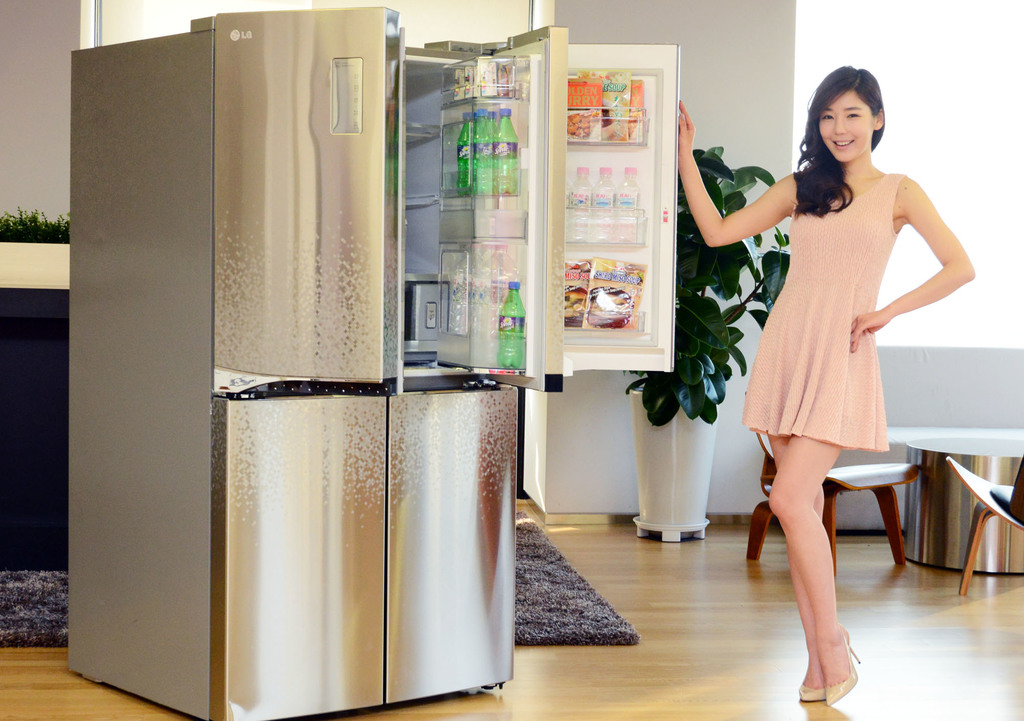handle: (393, 30, 412, 389), (236, 375, 386, 408)
refrigerator door: (221, 18, 386, 388), (222, 375, 386, 705), (393, 378, 511, 680), (460, 45, 566, 371), (563, 47, 669, 368)
